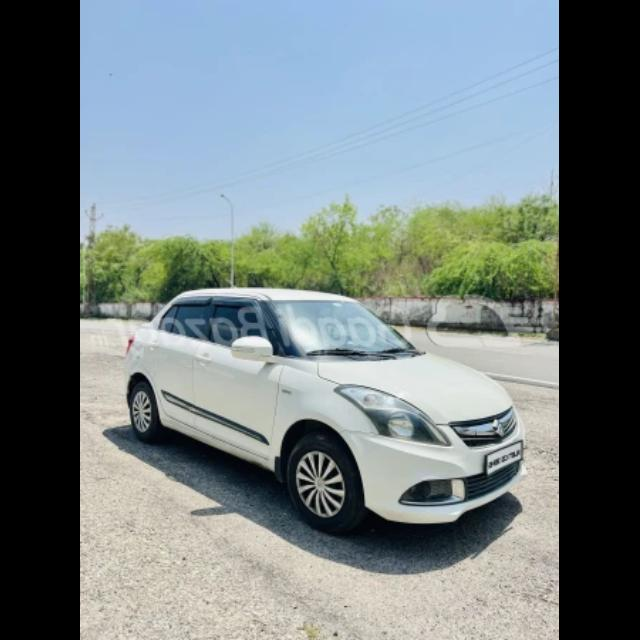number-plate: (488, 440, 526, 474)
vehicles: (119, 288, 537, 543)
